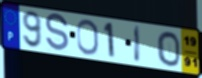1: (103, 22, 116, 60)
9: (21, 10, 43, 50)
I: (133, 24, 141, 65)
O: (156, 30, 182, 68), (76, 19, 101, 57)
S: (44, 12, 70, 53)
